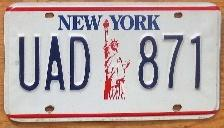1: (189, 34, 204, 91)
7: (162, 33, 185, 91)
8: (139, 34, 161, 90)
A: (45, 34, 68, 93)
D: (68, 35, 92, 93)
U: (17, 33, 43, 92)
